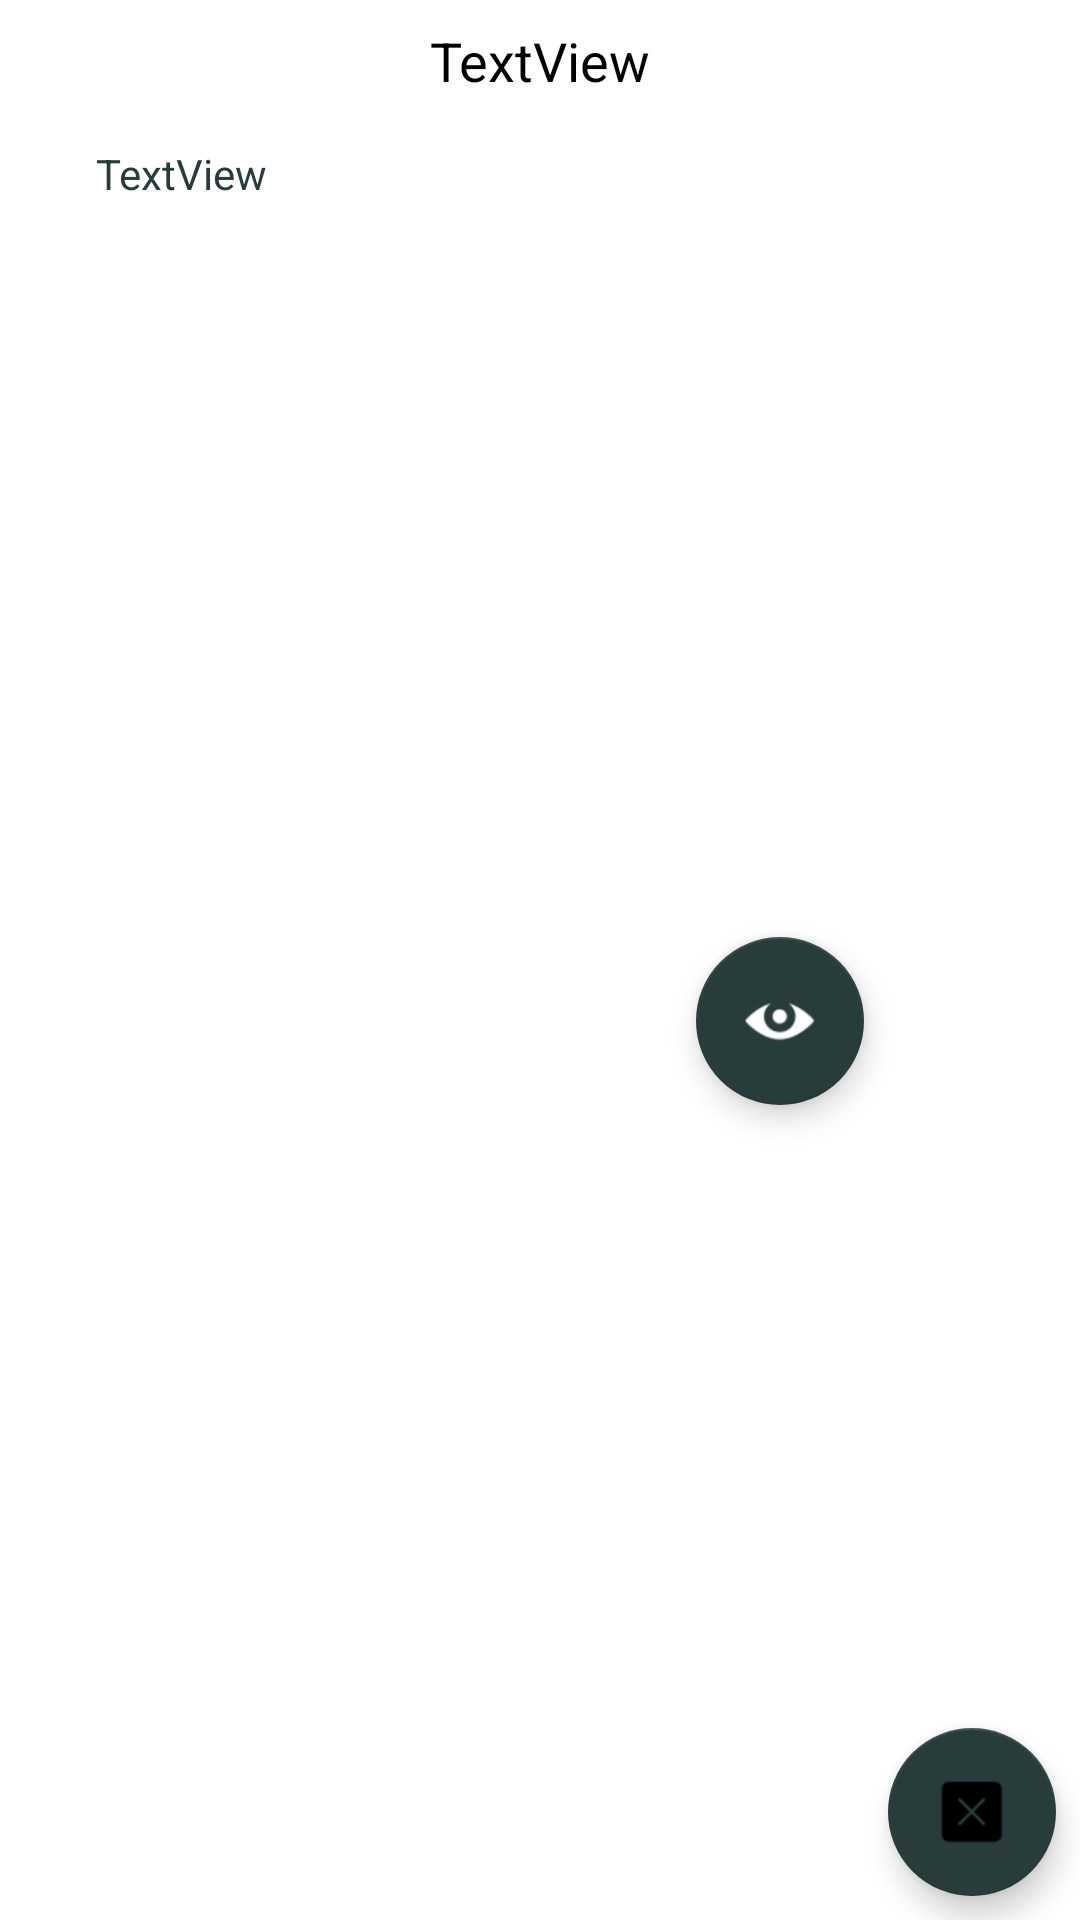

Where icons sit on this 1080w x 1920h app screen, as (x1, y1, x2, y2):
delete: (888, 1728, 1056, 1896)
eye: (696, 937, 864, 1105)
